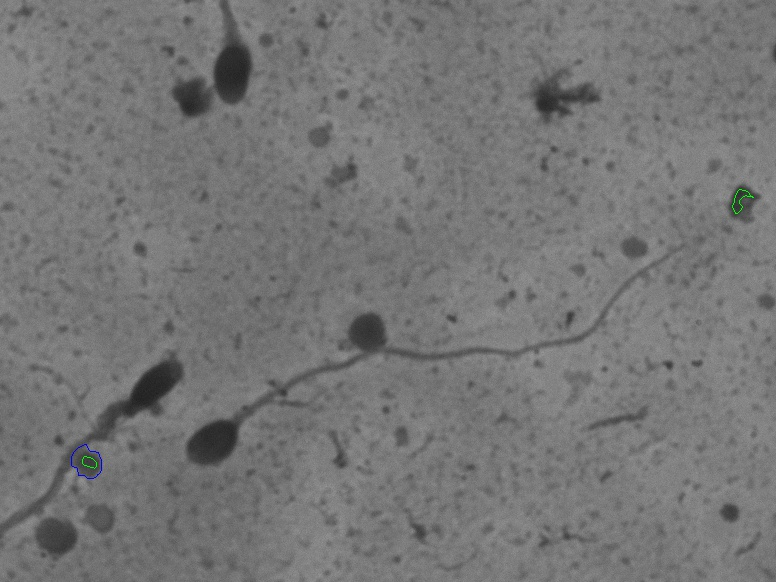Abnormal: (22, 339, 203, 469)
Normal: (167, 231, 704, 480)
